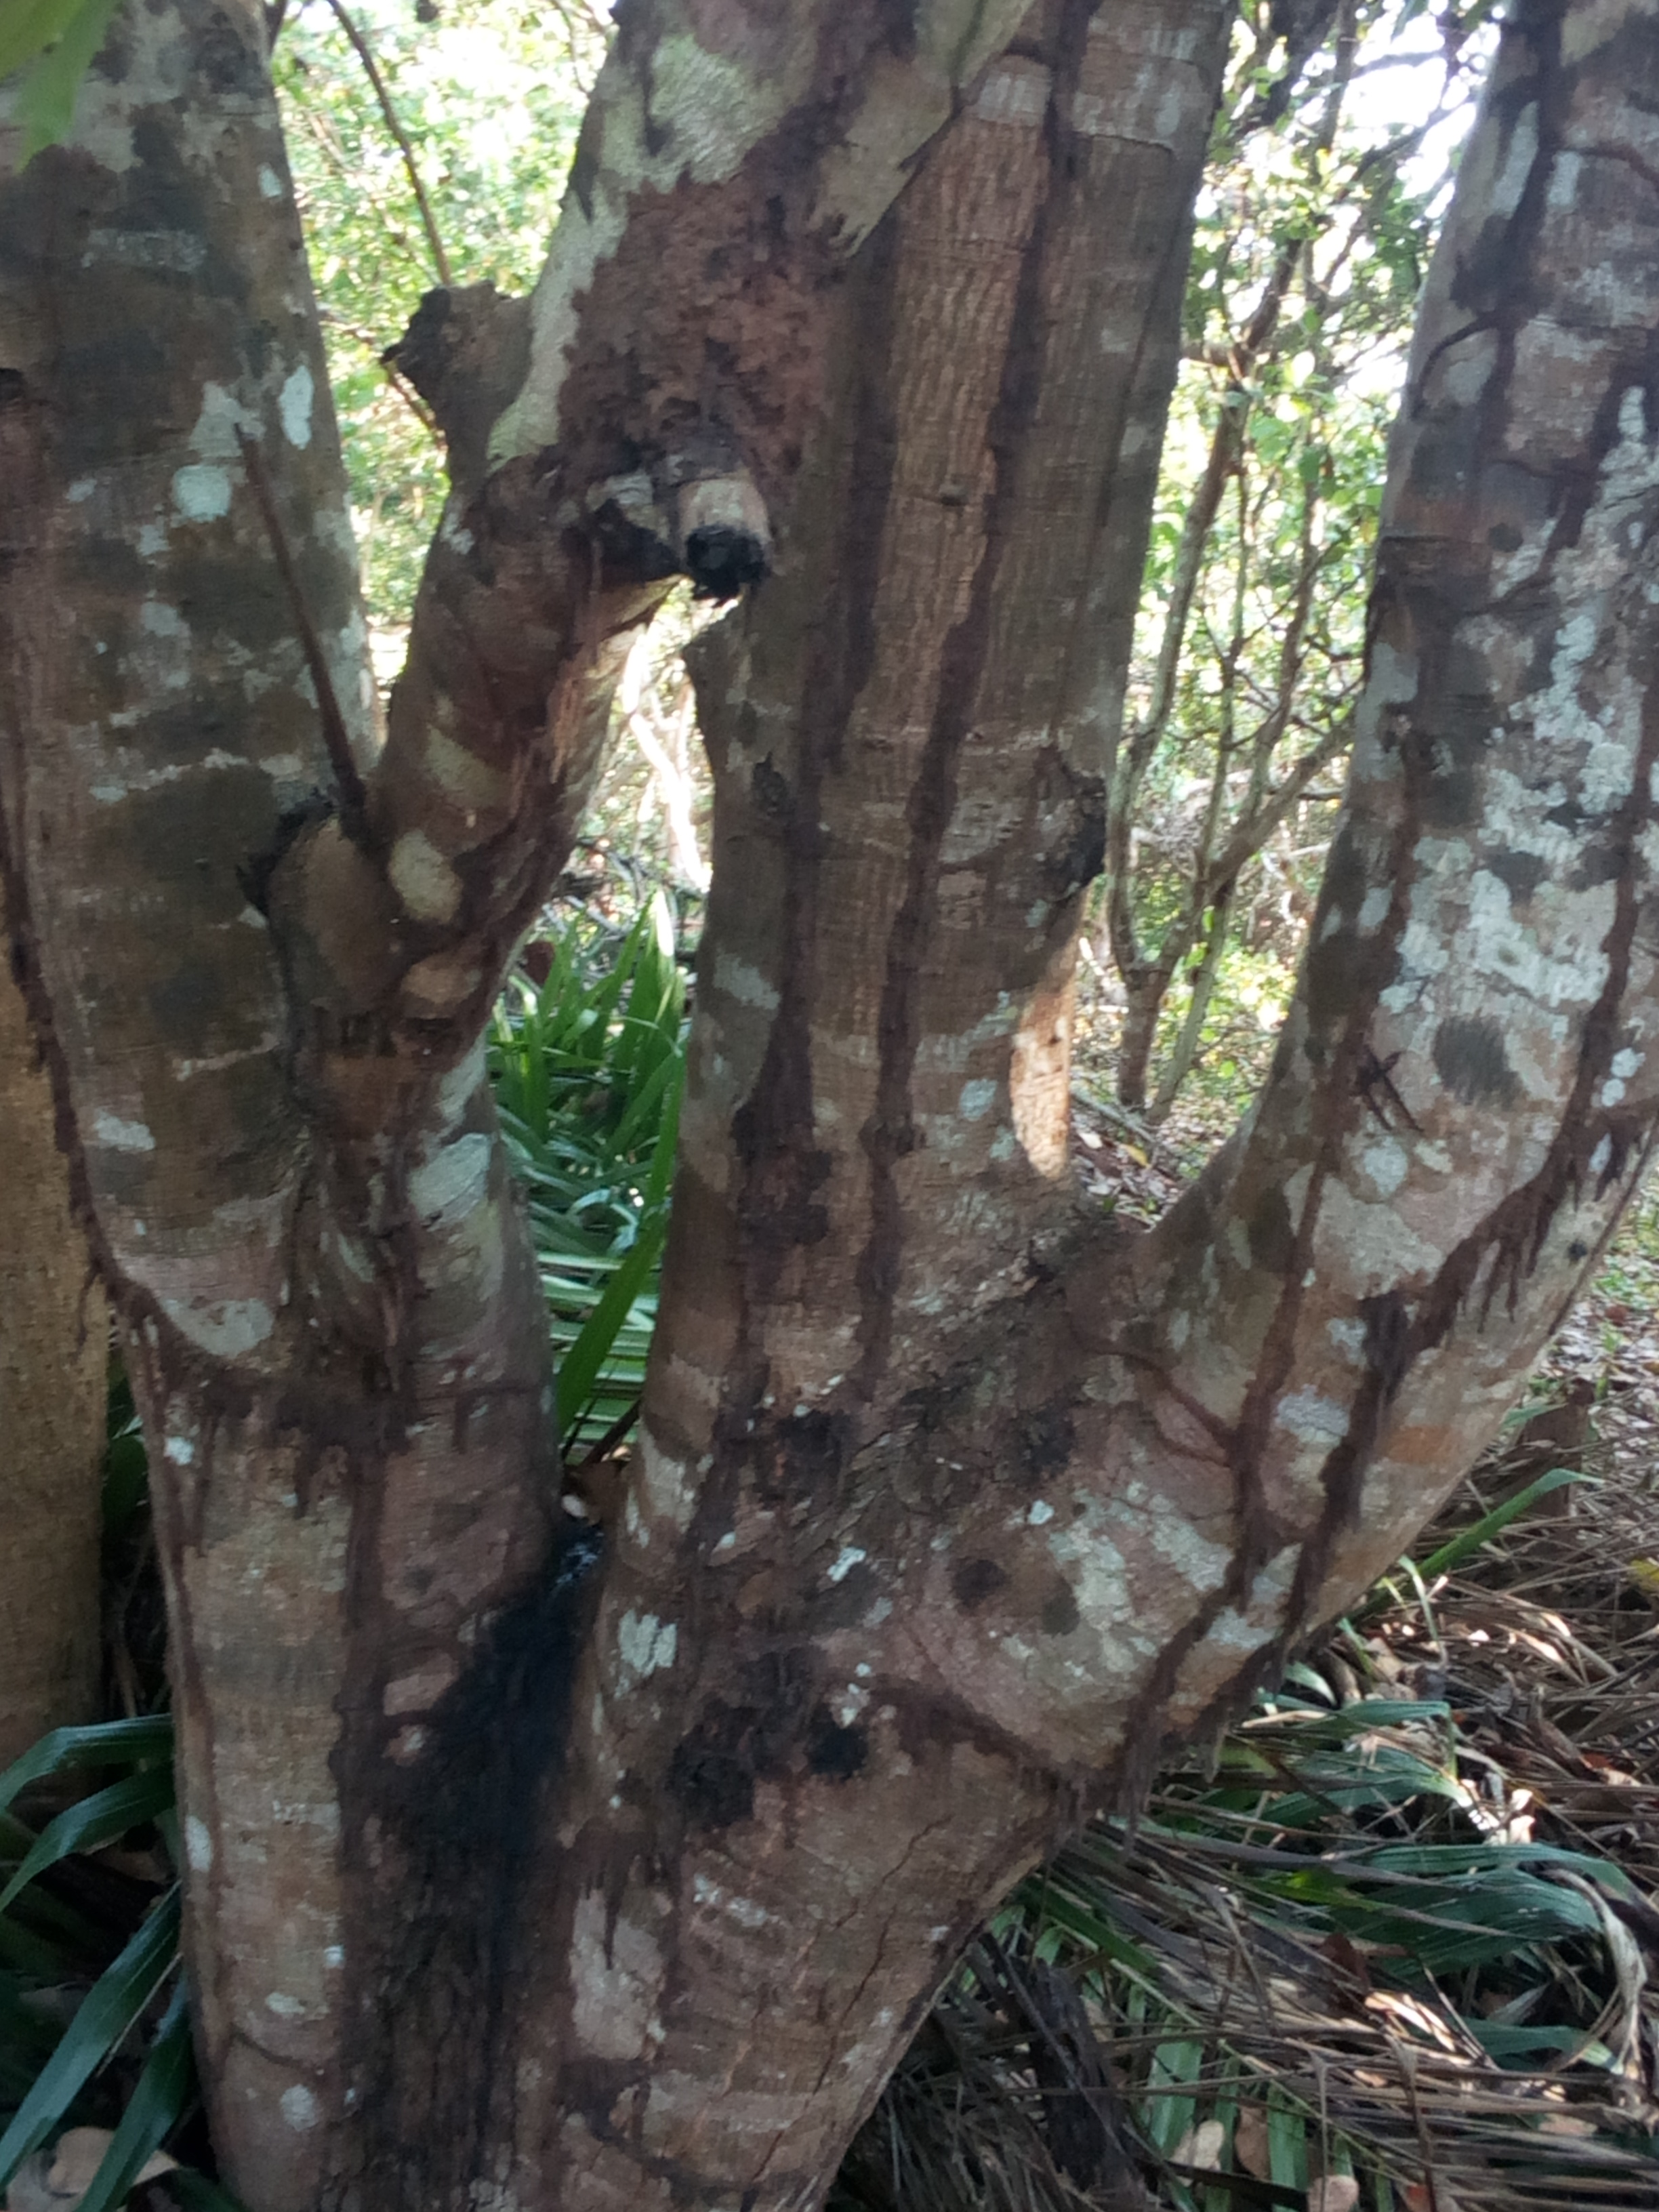Termites: (704, 150, 962, 1573), (1148, 1113, 1619, 1672), (105, 1261, 491, 1804), (599, 160, 809, 446)
